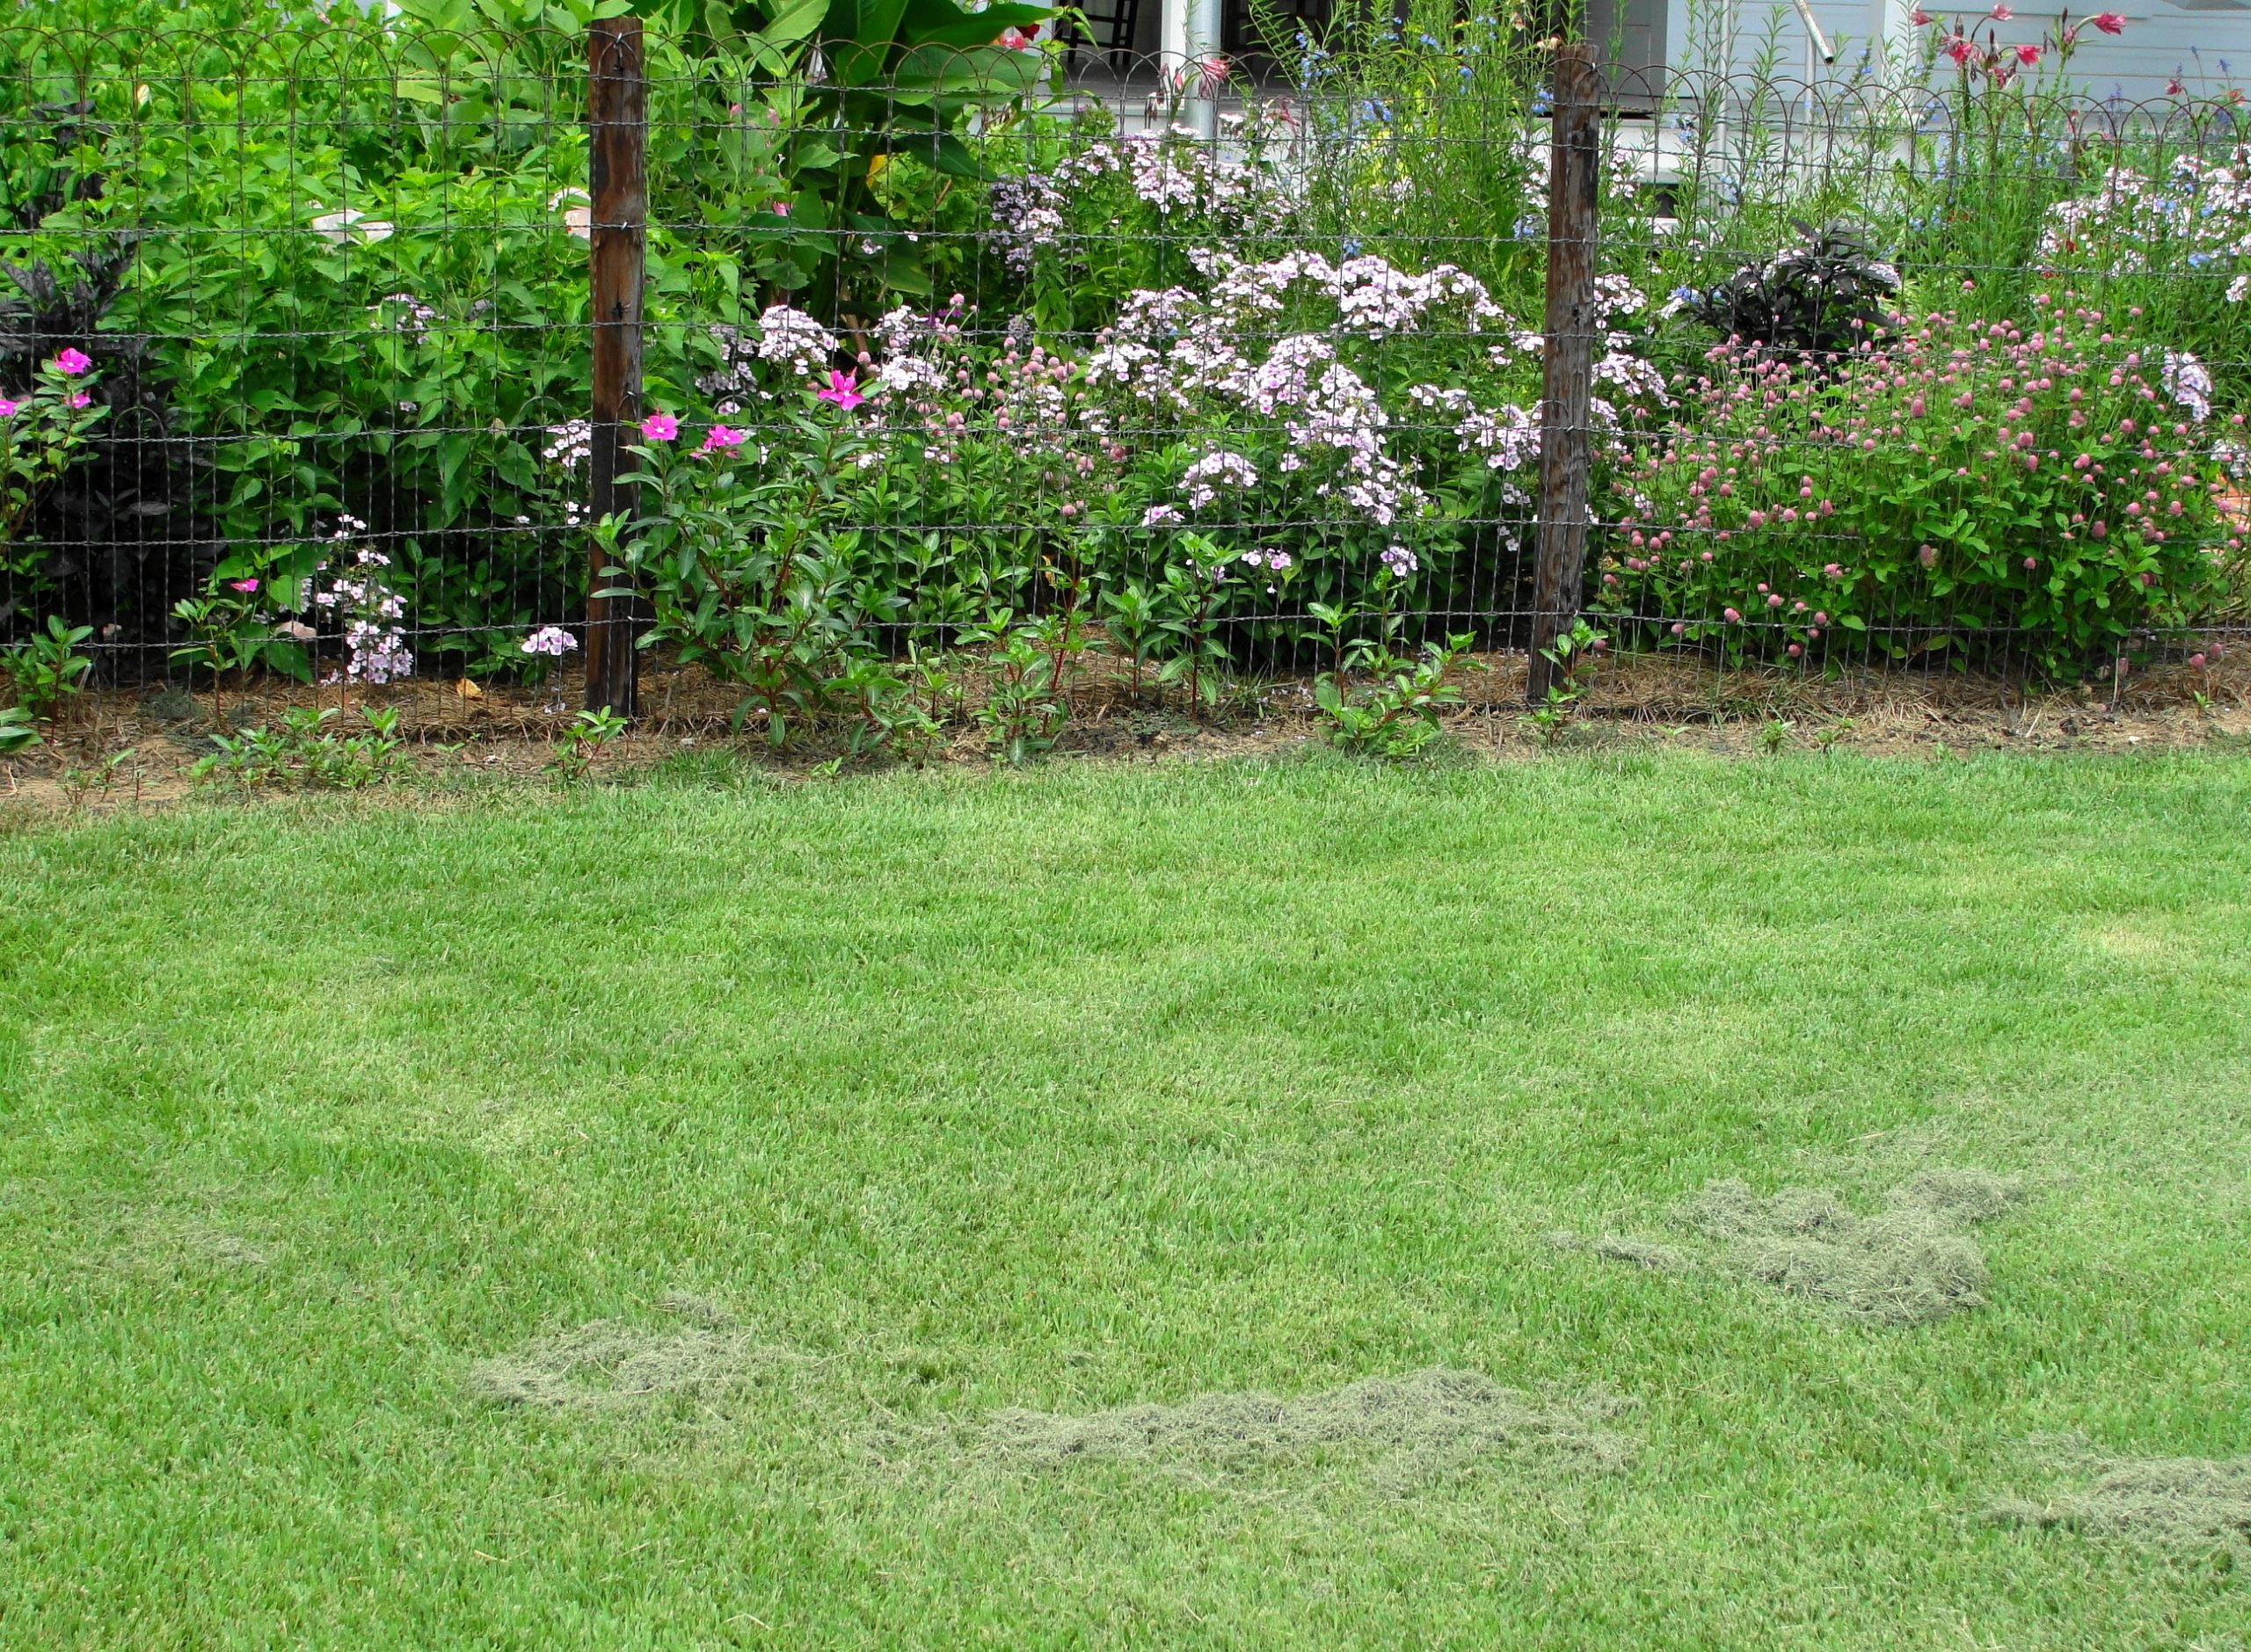grass: (2, 776, 2251, 1652)
